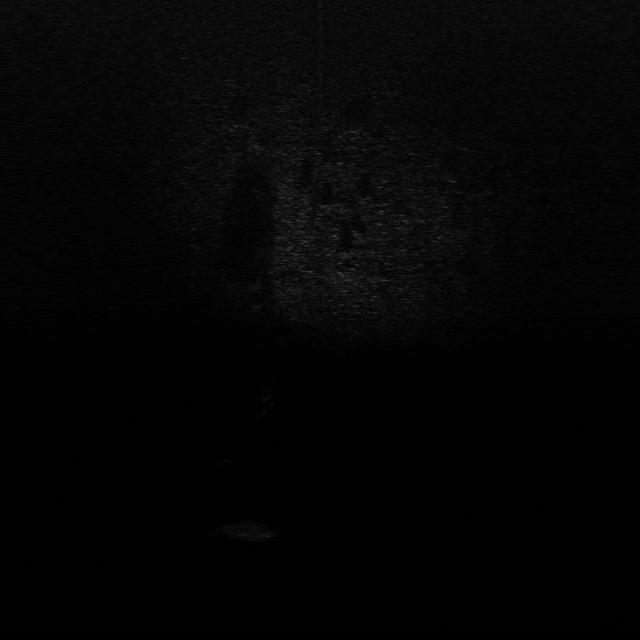ball: (222, 449, 247, 466)
circle cage: (220, 517, 280, 542)
human body: (259, 375, 283, 422)
